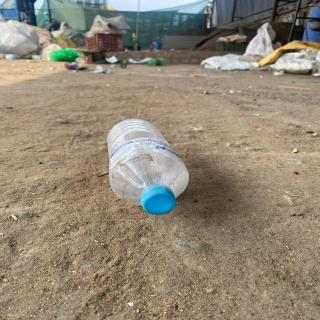Plastic-bottle: (105, 117, 192, 219)
